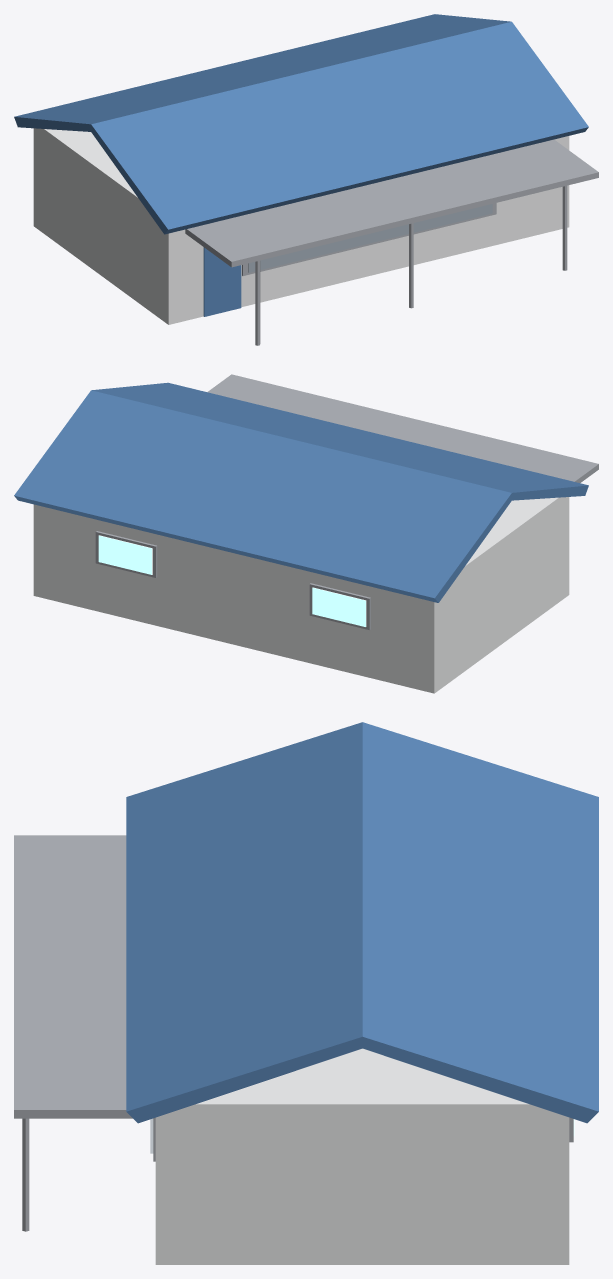
File: aircraft-fleet-and-airfield-flying-club-clubhouse-8c458617__32826.glb
The picture shows the model from 3 angles, top to bottom: view 1: azimuth 30°, elevation 25°; view 2: azimuth 150°, elevation 25°; view 3: azimuth 270°, elevation 25°; orthographic projection. The views are drawn at different scales.
Visible parts, largest first — view 1: flying-club-clubhouse; view 2: flying-club-clubhouse; view 3: flying-club-clubhouse.
Boxes of the visible parts, box(x1,y1,x2,y2) form: flying-club-clubhouse: box(14, 14, 598, 345); flying-club-clubhouse: box(14, 374, 598, 693); flying-club-clubhouse: box(14, 722, 598, 1264).
Bounding box in the file's own units: 12.6 × 4.4 × 9.9.
